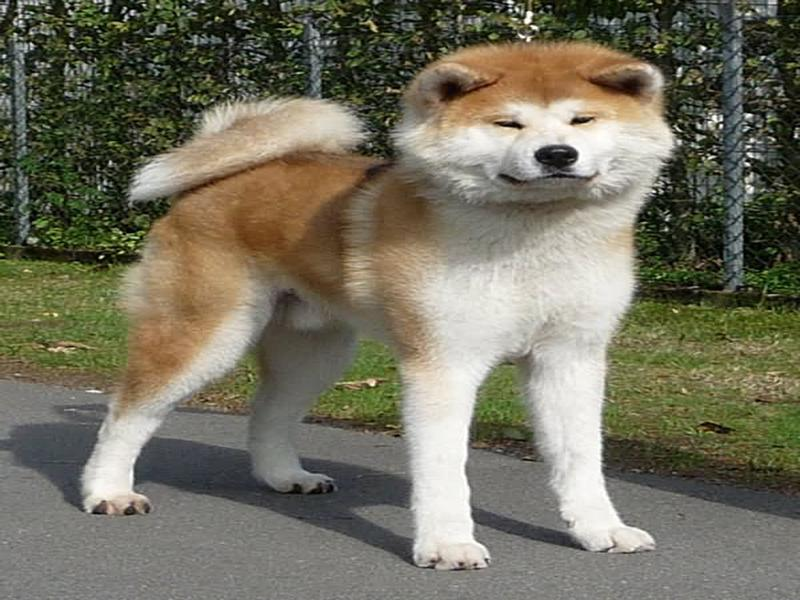dog_stand: (77, 38, 680, 571)
